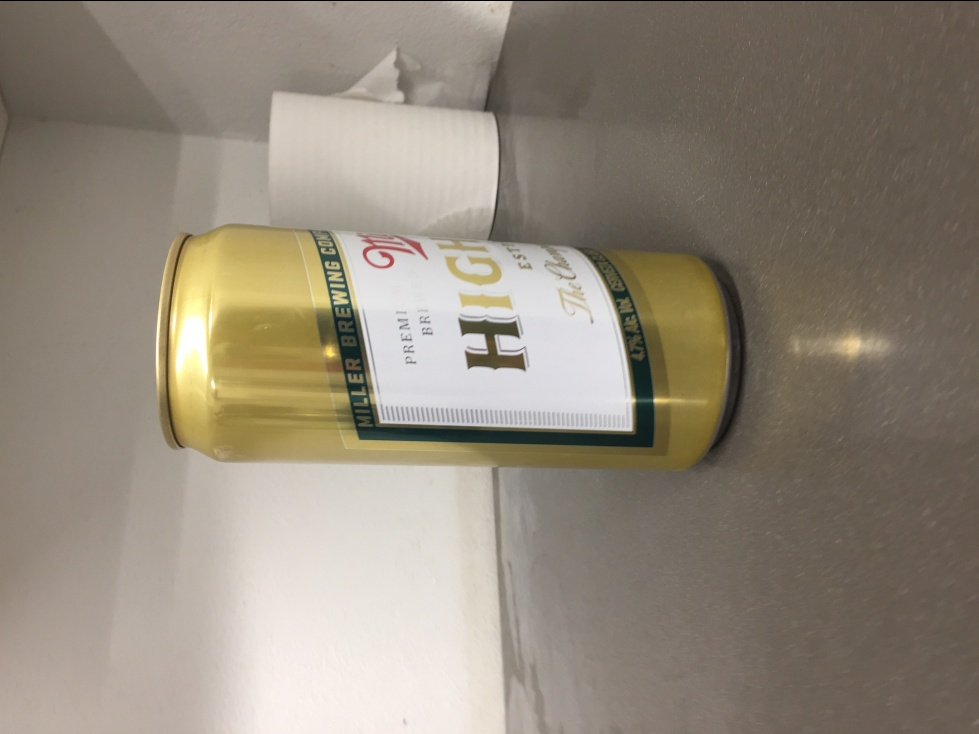miller: (155, 223, 742, 474)
